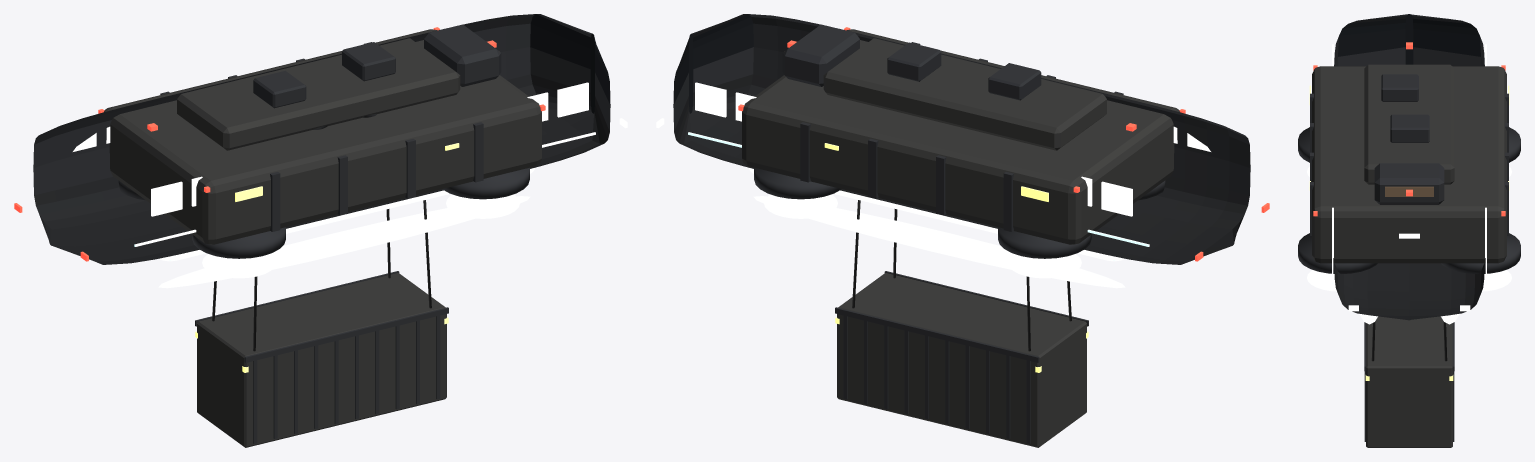
File: flying_vehicles.glb
3 views of the same model, side by side, from view 1: azimuth 30°, elevation 25°; view 2: azimuth 150°, elevation 25°; view 3: azimuth 270°, elevation 25° (orthographic). The views are drawn at different scales.
Parts seen in each view (by area): view 1: SM_Veh_Cargo, SM_Veh_Transit, SM_Veh_CargoContainer; view 2: SM_Veh_Cargo, SM_Veh_Transit, SM_Veh_CargoContainer; view 3: SM_Veh_Cargo, SM_Veh_Transit, SM_Veh_CargoContainer.
Part boxes in pixels (x1,y1,x2,y2): SM_Veh_Cargo: (98,24,545,278); SM_Veh_Transit: (14,14,627,288); SM_Veh_CargoContainer: (195,200,448,447); SM_Veh_Cargo: (738,24,1185,278); SM_Veh_Transit: (656,14,1269,288); SM_Veh_CargoContainer: (835,200,1088,447); SM_Veh_Cargo: (1298,64,1520,291); SM_Veh_Transit: (1332,14,1486,324); SM_Veh_CargoContainer: (1364,316,1454,447).
Bounding box in the file's own units: 16.04 × 9.64 × 6.4.
